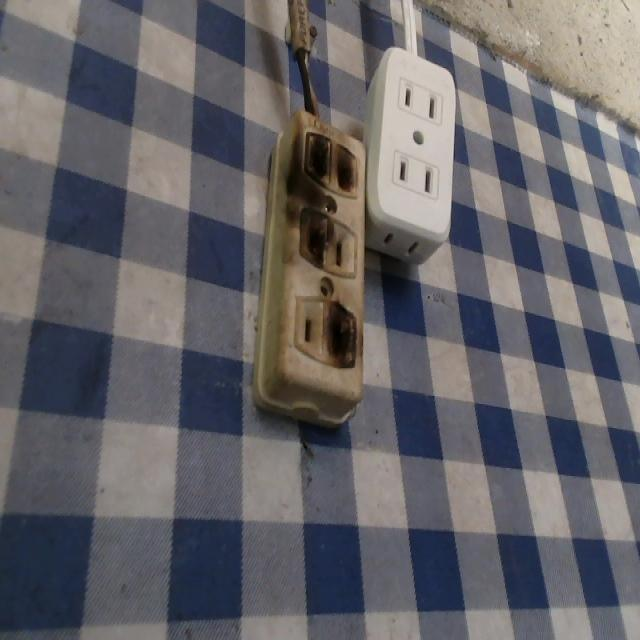-: (296, 118, 367, 198), (283, 197, 336, 276), (321, 294, 367, 382)
